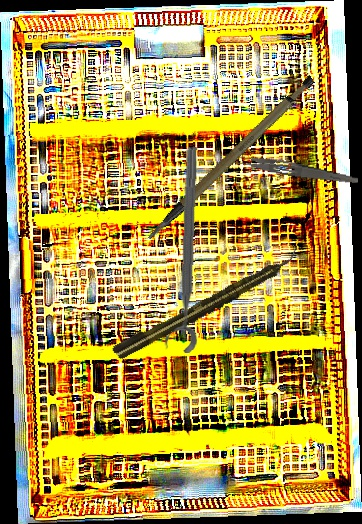Dressing Forceps: (224, 150, 360, 187)
Fixation Ring: (162, 146, 204, 354)
Handpiece: (109, 248, 304, 363)
Scalpel Handle: (124, 71, 334, 242)
